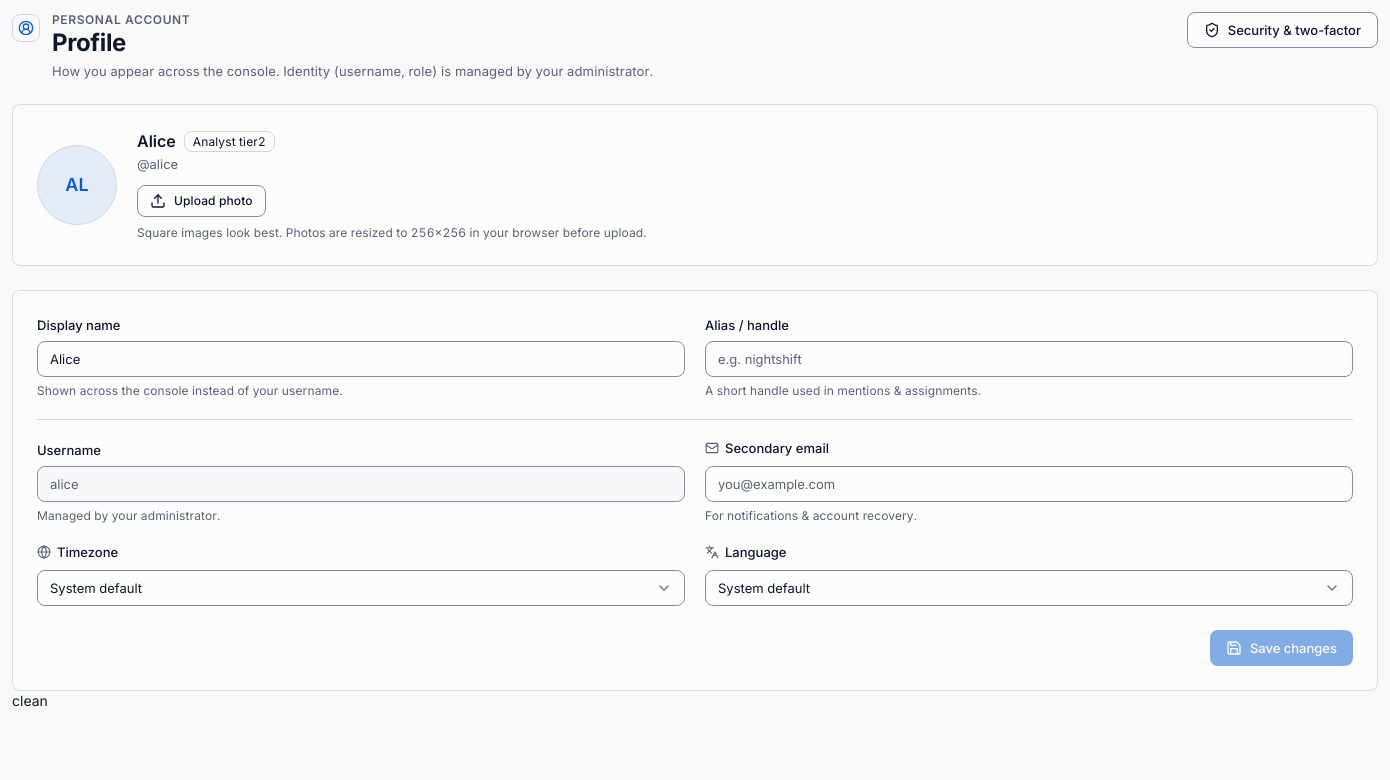
Account page › saves an edited field via PUT /api/account/me
Check: the text with test id "account-dirty-probe" reads "clean", box [12, 692, 48, 709]
Replace the text in the field labelled "Display name" with "Alice A." at (361, 359), box [37, 341, 685, 377]
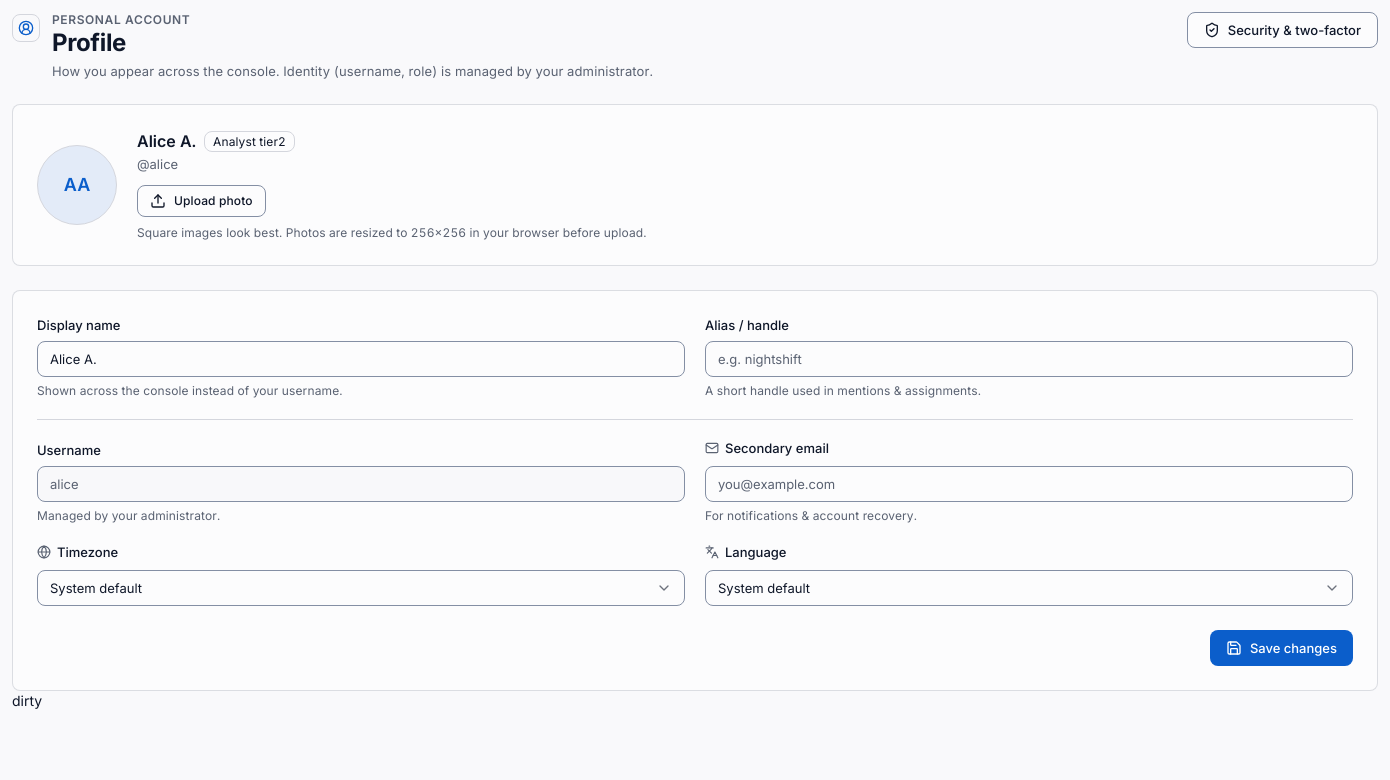
Check: the text with test id "account-dirty-probe" reads "dirty", box [12, 692, 42, 709]
Check: the button "Save changes" is enabled
Click the button "Save changes" at (1281, 648), box [1210, 630, 1353, 666]
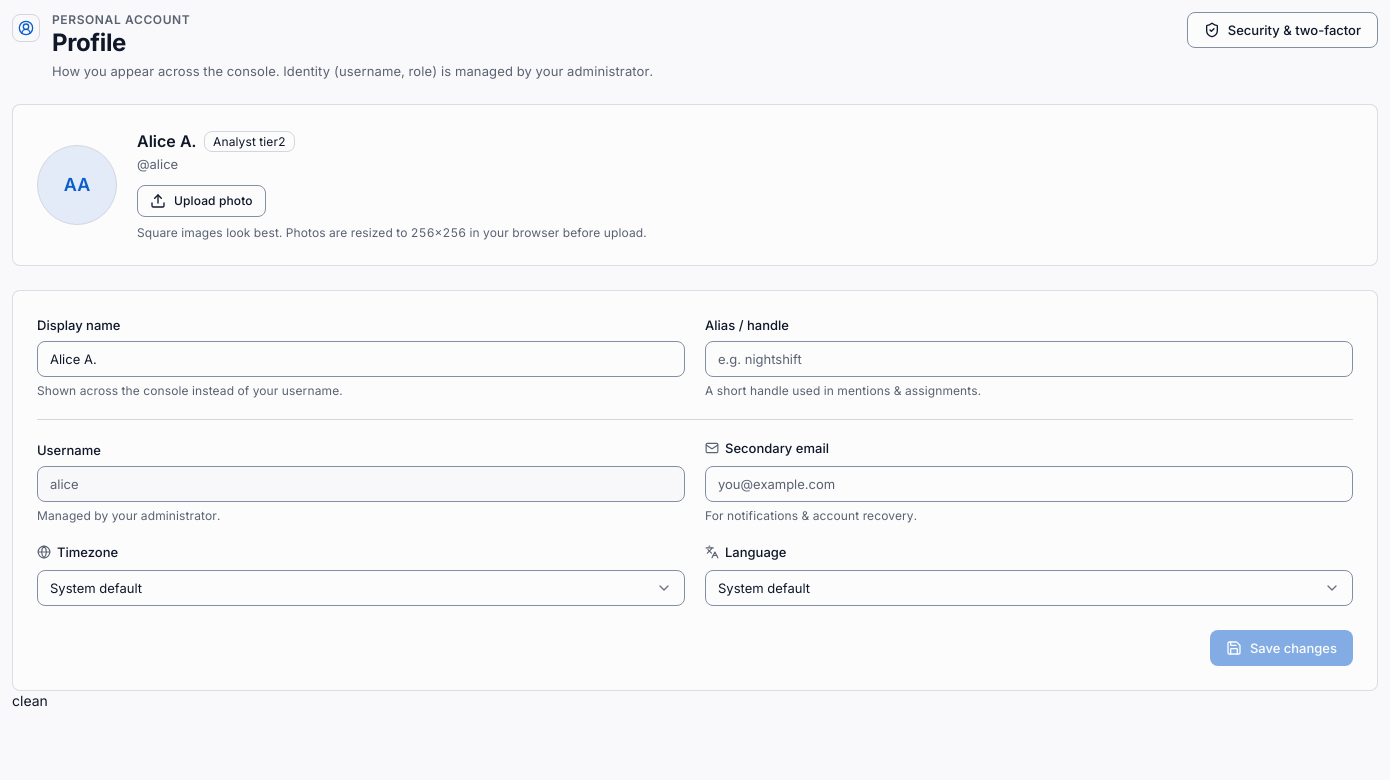
Check: the text with test id "account-dirty-probe" reads "clean", box [12, 692, 48, 709]
